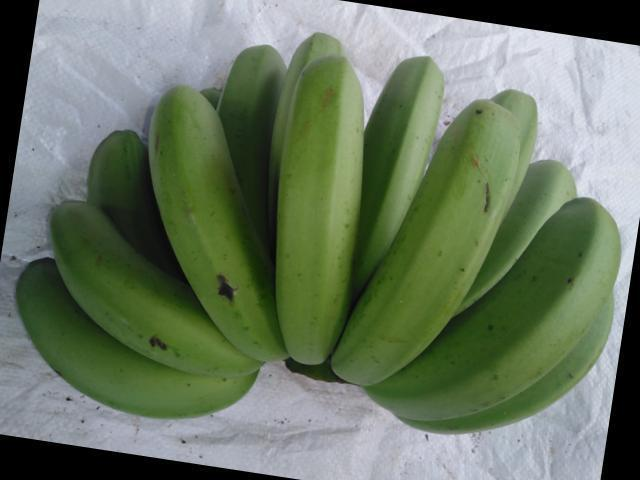unripe: (332, 96, 533, 395), (259, 53, 412, 433), (413, 195, 615, 418), (38, 199, 288, 354), (149, 77, 292, 329), (17, 272, 229, 428), (354, 45, 460, 208), (215, 16, 292, 195), (75, 123, 165, 228)
